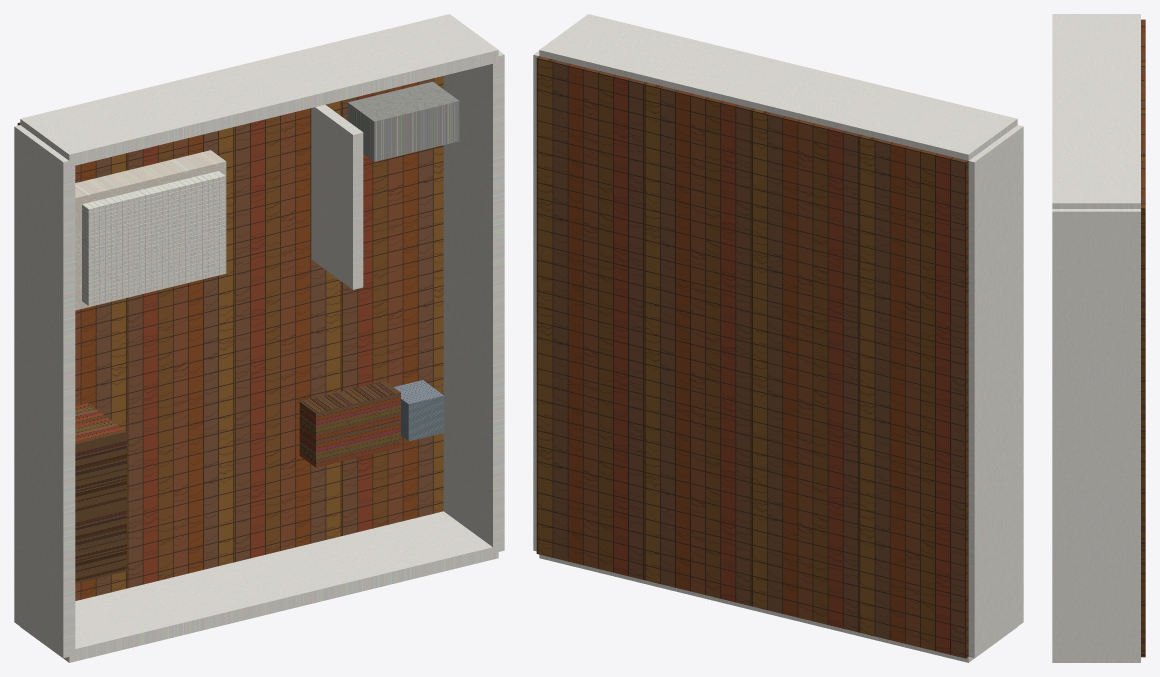
File: sample_6_compact_textured.glb
3 views of the same model, side by side, from view 1: azimuth 30°, elevation 25°; view 2: azimuth 150°, elevation 25°; view 3: azimuth 270°, elevation 25° (orthographic). The views are drawn at different scales.
Visible parts, largest first — view 1: floor, wall_west, wall_east, wall_north, wall_south, mattress, bath_partition, wardrobe, folding_table, vanity, sleeping_platform, chair; view 2: floor, wall_west, wall_north, wall_east, wall_south; view 3: wall_east, wall_north, floor, wall_south.
Part boxes in pixels (bbox=[...]): floor: bbox=[17, 76, 443, 600]; wall_west: bbox=[14, 125, 75, 657]; wall_east: bbox=[443, 50, 504, 553]; wall_north: bbox=[20, 14, 498, 165]; wall_south: bbox=[20, 511, 498, 662]; mattress: bbox=[82, 171, 225, 305]; bath_partition: bbox=[311, 104, 363, 289]; wardrobe: bbox=[75, 403, 126, 583]; folding_table: bbox=[299, 381, 400, 467]; vanity: bbox=[347, 81, 459, 161]; sleeping_platform: bbox=[75, 150, 226, 310]; chair: bbox=[394, 380, 444, 441]; floor: bbox=[536, 56, 968, 658]; wall_west: bbox=[968, 125, 1023, 657]; wall_north: bbox=[539, 14, 1017, 160]; wall_east: bbox=[533, 50, 539, 551]; wall_south: bbox=[539, 554, 1017, 662]; wall_east: bbox=[1052, 209, 1140, 659]; wall_north: bbox=[1052, 14, 1140, 208]; floor: bbox=[1141, 19, 1145, 657]; wall_south: bbox=[1052, 660, 1140, 662].
Bounding box in the file's own units: 5.96 × 6.56 × 1.21.
Materials: 7 (7 with a texture image).
